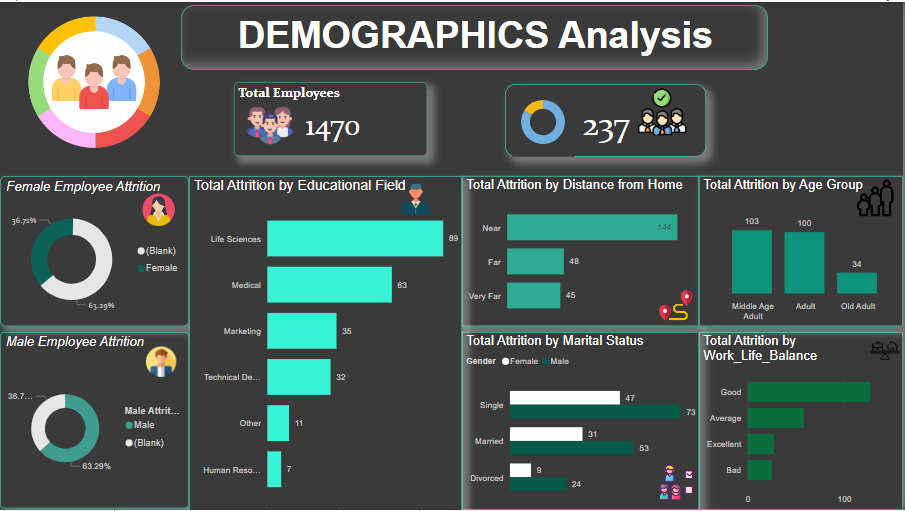

The page's visual inventory and layout, read from the dashboard file:
{"tool":"powerbi","page":{"name":"Page 1","canvas":[1280,720],"ordinal":0},"visuals":[{"type":"card","title":"Total Employees","fields":{"Values":["Sum(HR-Employee-Attrition (1).EmployeeCount)"]},"box":[331.7,113.4,273.5,104.9],"z":0},{"type":"clusteredBarChart","title":"Total Attrition by Work_Life_Balance","fields":{"Category":["HR-Employee-Attrition (1).Work_life_balance Ranking"],"Y":["Sum(HR-Employee-Attrition (1).Attrition Condition)"]},"box":[990.7,468,289.4,252],"z":1000},{"type":"clusteredBarChart","title":"Total Attrition by Distance from Home","fields":{"Y":["Sum(HR-Employee-Attrition (1).Attrition Condition)"],"Category":["HR-Employee-Attrition (1).DH"]},"box":[655.2,246.2,335.5,213.1],"z":2000},{"type":"clusteredBarChart","title":"Total Attrition by Marital Status","fields":{"Category":["HR-Employee-Attrition (1).MaritalStatus"],"Y":["Sum(HR-Employee-Attrition (1).Attrition Condition)"],"Series":["HR-Employee-Attrition (1).Gender"]},"box":[655.2,468,335.5,252],"z":3000},{"type":"donutChart","title":"Female Employee Attrition","fields":{"Category":["HR-Employee-Attrition (1).Female "],"Y":["Sum(HR-Employee-Attrition (1).Attrition Condition)"]},"box":[0,246.2,267.8,213.1],"z":4000},{"type":"donutChart","title":"Male Employee Attrition","fields":{"Category":["HR-Employee-Attrition (1).Male Attrition"],"Y":["Sum(HR-Employee-Attrition (1).Attrition Condition)"]},"box":[0,468,267.8,250],"z":5000},{"type":"columnChart","title":"Total Attrition by Age Group","fields":{"Category":["HR-Employee-Attrition (1).Age Ranking"],"Y":["Sum(HR-Employee-Attrition (1).Attrition Condition)"]},"box":[990.7,246.6,289.1,212.6],"z":6000},{"type":"clusteredBarChart","title":"Total Attrition by Educational Field","fields":{"Category":["HR-Employee-Attrition (1).EducationField"],"Y":["Sum(HR-Employee-Attrition (1).Attrition Condition)"]},"box":[267.8,246.2,387.4,473.8],"z":7000},{"type":"textbox","box":[256.3,4.3,832.3,92.2],"z":8000},{"type":"image","box":[331.7,136.1,100.6,78],"z":9000},{"type":"image","box":[193,266.4,63.4,56.2],"z":10000},{"type":"image","box":[200.2,483.8,56.2,53.3],"z":11000},{"type":"card","fields":{"Values":["Sum(HR-Employee-Attrition (1).Attrition Condition)"]},"box":[715.7,116.2,284.9,103.5],"z":12000},{"type":"image","box":[1228.8,467.7,51,52.4],"z":13000},{"type":"image","box":[924.1,401.1,66.6,58.1],"z":14000},{"type":"image","box":[1200.5,246.6,79.4,62.4],"z":15000},{"type":"image","box":[928.3,644.9,62.4,72.3],"z":16000},{"type":"image","box":[560.2,246.2,59,61.9],"z":17000},{"type":"image","box":[31.7,4.3,204.5,217.4],"z":18000},{"type":"donutChart","fields":{"Category":["HR-Employee-Attrition (1).Attrition Condition"],"Y":["CountNonNull(HR-Employee-Attrition (1).Gender)"]},"box":[725.7,120.5,87.9,99.2],"z":19000},{"type":"image","box":[887.2,116.2,103.5,79.4],"z":20000}]}

Visuals, with their boxes in screenshot pixels (x1, y1, x2, y2), scaled from the page's 1280x720 canvas onto the 905x511 screenshot:
"Total Employees" card: BBox(235, 80, 428, 155)
"Total Attrition by Work_Life_Balance" clusteredBarChart: BBox(700, 332, 904, 510)
"Total Attrition by Distance from Home" clusteredBarChart: BBox(463, 175, 700, 326)
"Total Attrition by Marital Status" clusteredBarChart: BBox(463, 332, 700, 510)
"Female Employee Attrition" donutChart: BBox(0, 175, 189, 326)
"Male Employee Attrition" donutChart: BBox(0, 332, 189, 510)
"Total Attrition by Age Group" columnChart: BBox(700, 175, 904, 326)
"Total Attrition by Educational Field" clusteredBarChart: BBox(189, 175, 463, 510)
textbox: BBox(181, 3, 770, 68)
image: BBox(235, 97, 306, 152)
image: BBox(136, 189, 181, 229)
image: BBox(142, 343, 181, 381)
card - Sum(HR-Employee-Attrition (1).Attrition Condition): BBox(506, 82, 707, 156)
image: BBox(869, 332, 904, 369)
image: BBox(653, 285, 700, 326)
image: BBox(849, 175, 904, 219)
image: BBox(656, 458, 700, 509)
image: BBox(396, 175, 438, 219)
image: BBox(22, 3, 167, 157)
donutChart - HR-Employee-Attrition (1).Attrition Condition x CountNonNull(HR-Employee-Attrition (1).Gender): BBox(513, 86, 575, 156)
image: BBox(627, 82, 700, 139)
